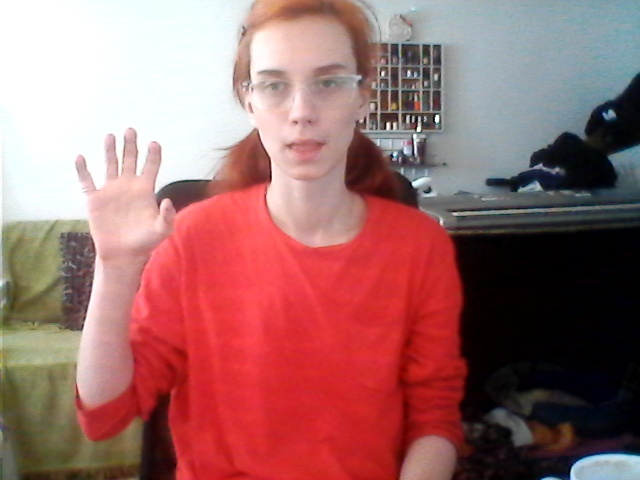budova: (69, 124, 192, 259)
